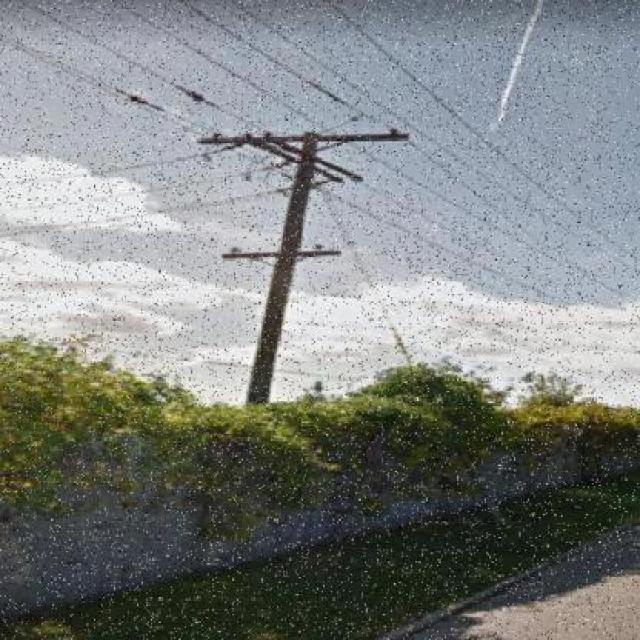pole: (152, 71, 420, 575)
